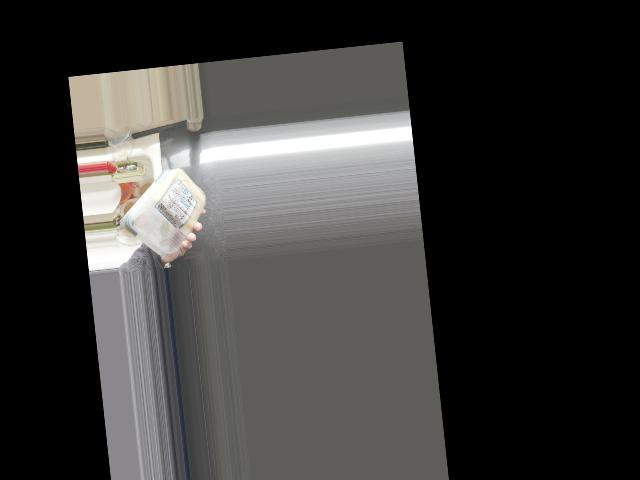cheese: (127, 164, 206, 259)
